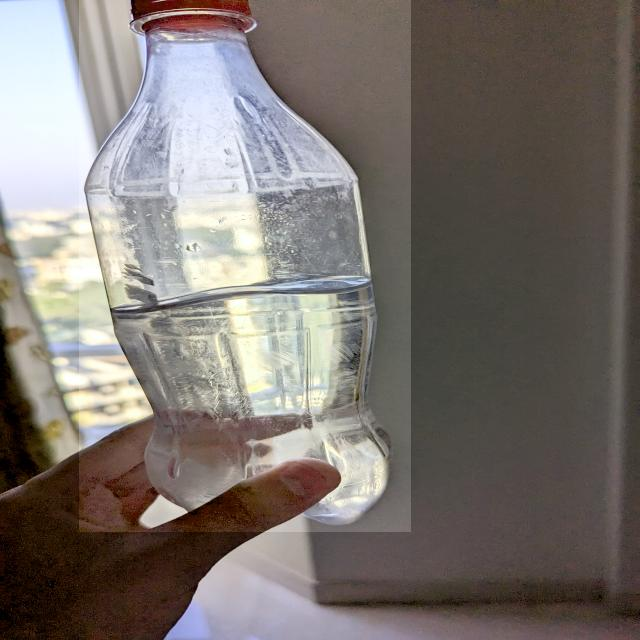half-bottle: (79, 0, 411, 532)
